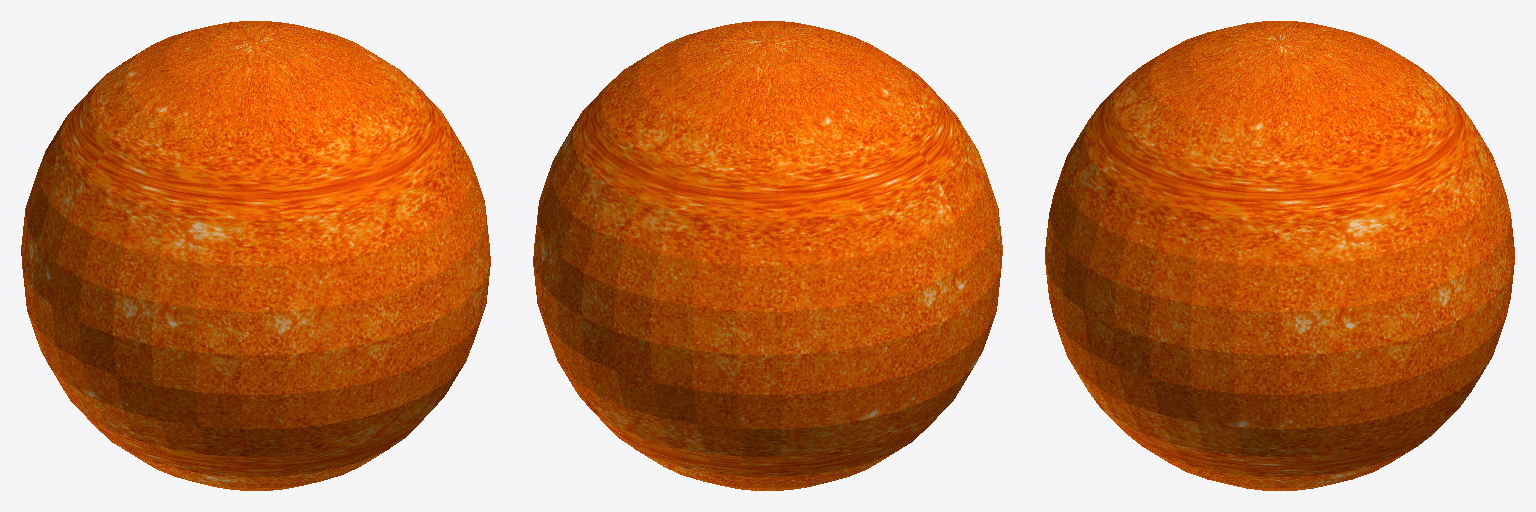
The picture shows the model from 3 angles: view 1: azimuth 30°, elevation 25°; view 2: azimuth 150°, elevation 25°; view 3: azimuth 270°, elevation 25°; orthographic projection.
Parts seen in each view (by area): view 1: Sphere; view 2: Sphere; view 3: Sphere.
Boxes of the visible parts, <box> form: Sphere: <box>21,21,490,490</box>; Sphere: <box>533,21,1002,490</box>; Sphere: <box>1045,21,1514,490</box>.
Bounding box in the file's own units: 2 × 2 × 2.
Materials: 1 (1 with a texture image).